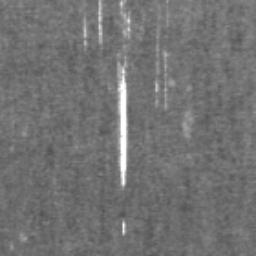Bright scratch: (116, 54, 128, 187), (120, 0, 131, 38), (155, 38, 159, 108), (98, 0, 103, 44), (164, 45, 167, 109), (84, 12, 87, 46)
